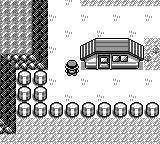main: (64, 60, 79, 76)
no-caminable: (16, 69, 159, 118), (0, 0, 48, 134), (81, 38, 143, 69)
puerta: (99, 56, 110, 69)
